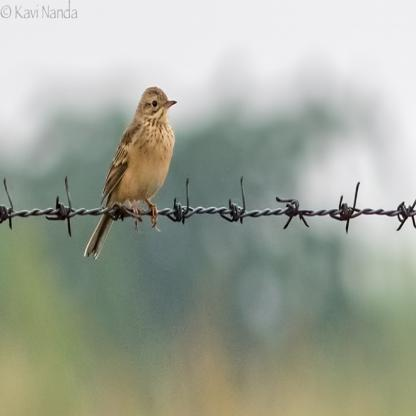Burung: (83, 85, 179, 256)
